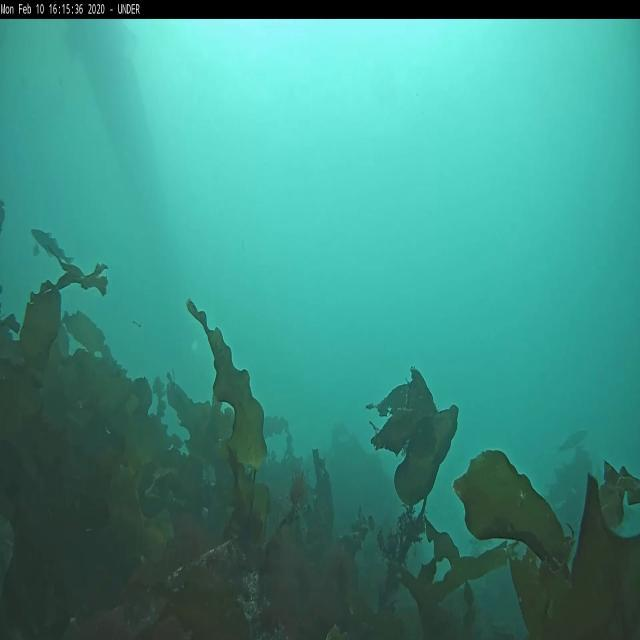fish: (30, 228, 73, 267), (558, 428, 590, 456)
